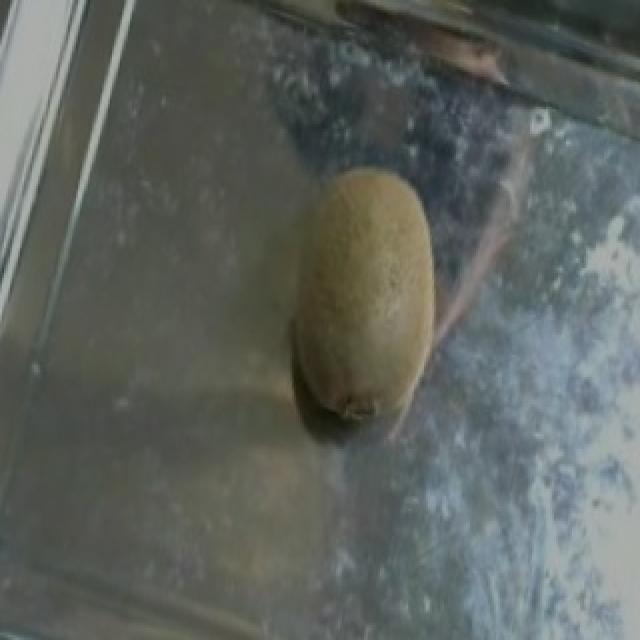Fruit: (240, 134, 488, 451)
